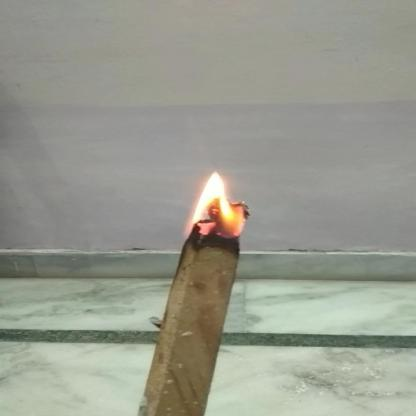fire: (172, 168, 252, 244)
